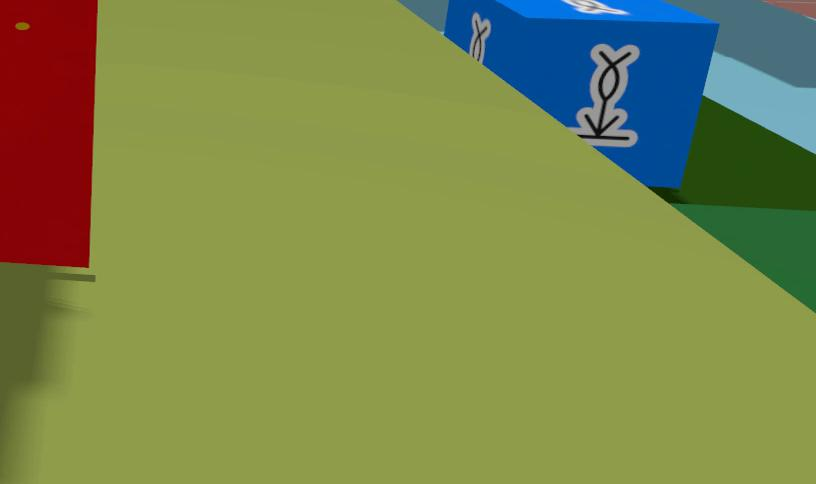KFS_FAKE: (0, 0, 96, 264)
KFS_REAL: (445, 0, 718, 187), (572, 44, 639, 146), (468, 13, 491, 61), (562, 0, 627, 14)
